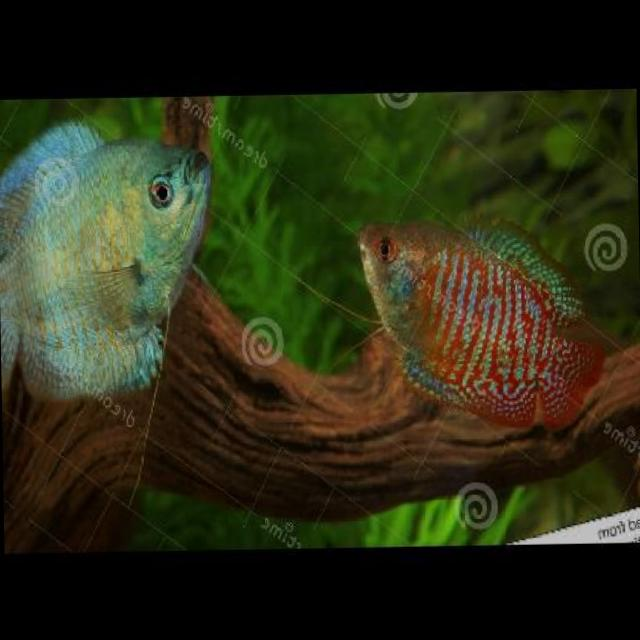Gourami: (0, 109, 221, 415), (346, 210, 612, 433)
